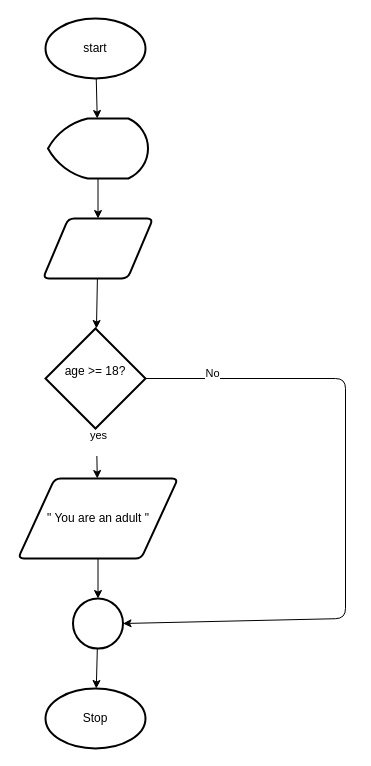
The diagram is 371 pixels wide and 766 high, and some of its shapes have lost their labels. The shapes that lost their labels are listed below. From the top down, each one's centre as x and y in pixels, then its label:
At point (97, 148): "Display".
At point (98, 248): "input age".
